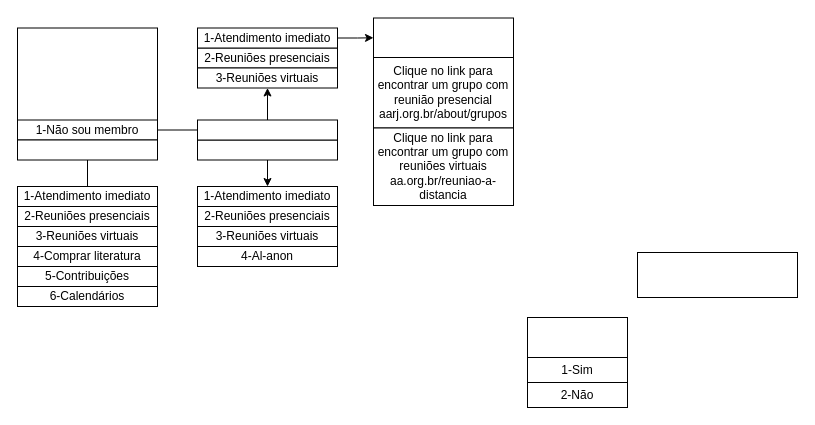
Image size: 815x425. Some labels were removed from this diagram. The shapes that lost their labels are listed below. From the top down, each one's centre as x and y in pixels, then its label:
the point at 443,37: Atendimento imediato ligue para 21 2253-3377
the point at 87,73: Linha de Ajuda de Alcóolicos Anônimos ESL/RJ Digite o número da opção desejada
the point at 87,149: 2-Já sou membro
the point at 267,129: 1-Eu preciso de ajuda
the point at 267,149: 2-Preciso ajudar alguém
the point at 717,275: Clique no link para encontrar um grupo de Al-anon al-anon.org.br
the point at 577,337: Podemos ajudar em algo mais?
